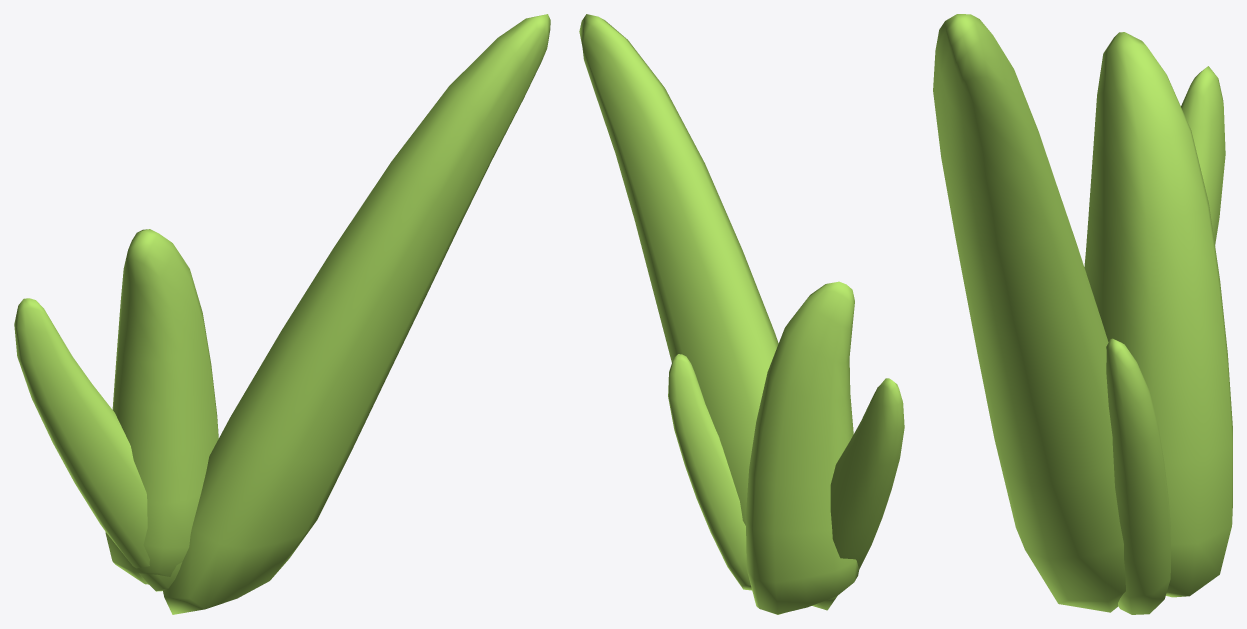
The model's file is pasto 4 hojas uv.fbx.
The picture shows the model from 3 angles, left to right: view 1: azimuth 30°, elevation 25°; view 2: azimuth 150°, elevation 25°; view 3: azimuth 270°, elevation 25°; orthographic projection. The views are drawn at different scales.
Parts seen in each view (by area): view 1: pasto 4 hojas; view 2: pasto 4 hojas; view 3: pasto 4 hojas.
Part boxes in pixels (bbox=[...]): pasto 4 hojas: bbox=[14, 14, 550, 614]; pasto 4 hojas: bbox=[579, 14, 904, 614]; pasto 4 hojas: bbox=[933, 14, 1232, 614].
Size of the model in its own units: 362 by 430 by 149.
